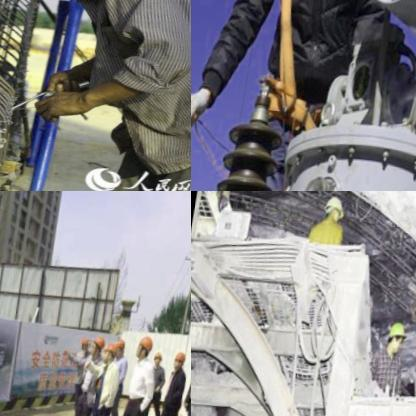helmet: (387, 319, 411, 357), (323, 192, 348, 224), (133, 332, 157, 361), (88, 334, 109, 358), (171, 348, 189, 374), (103, 340, 120, 362), (115, 335, 130, 358), (152, 348, 167, 369), (81, 334, 92, 354)
